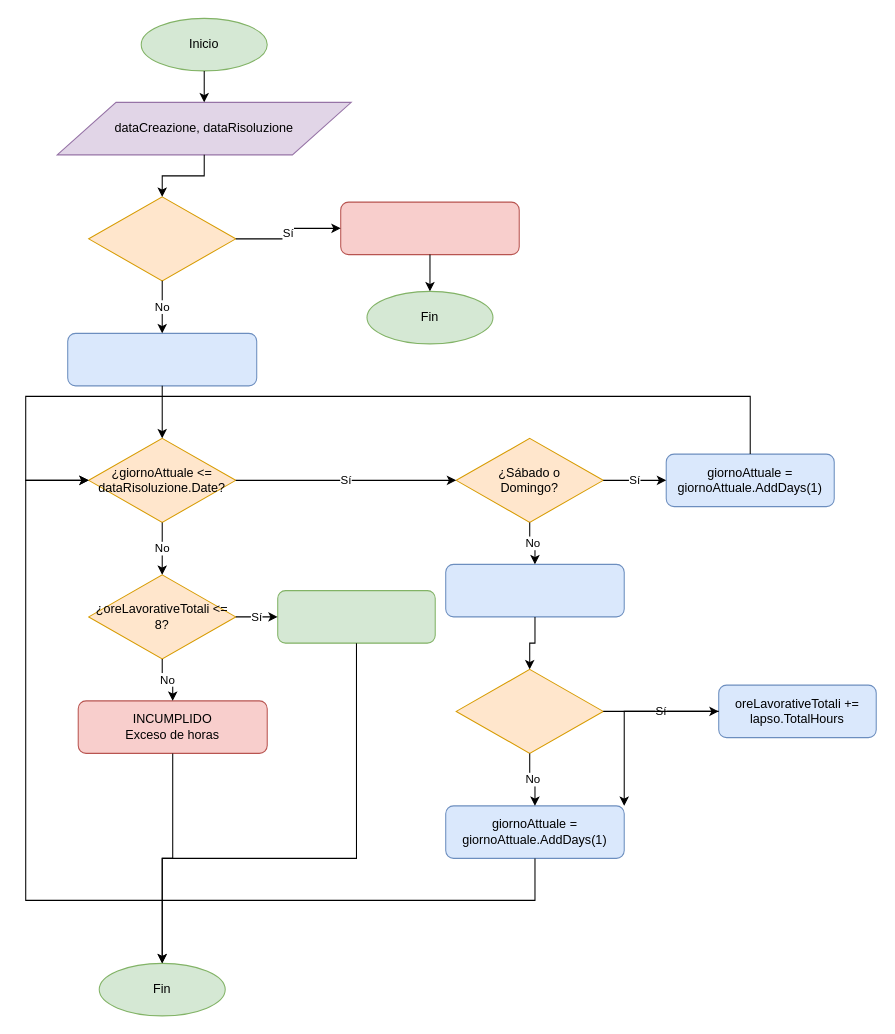
Some shapes in this 895 by 1034 pixel diagram are drawn without their labels. Here are the shapes that lost their labels. From the top down, the centre of each, then its label:
At (162,238): "¿dataCreazione >= dataRisoluzione?".
At (429,228): "fecha inválida".
At (162,359): "oreLavorativeTotali = 0 giornoAttuale = dataCreazione.Date".
At (534,590): "Calcular inizioEffettivo, fineEffettivo del día".
At (356,616): "CUMPLIDO".
At (529,710): "¿inizioEffettivo < fineEffettivo?".
